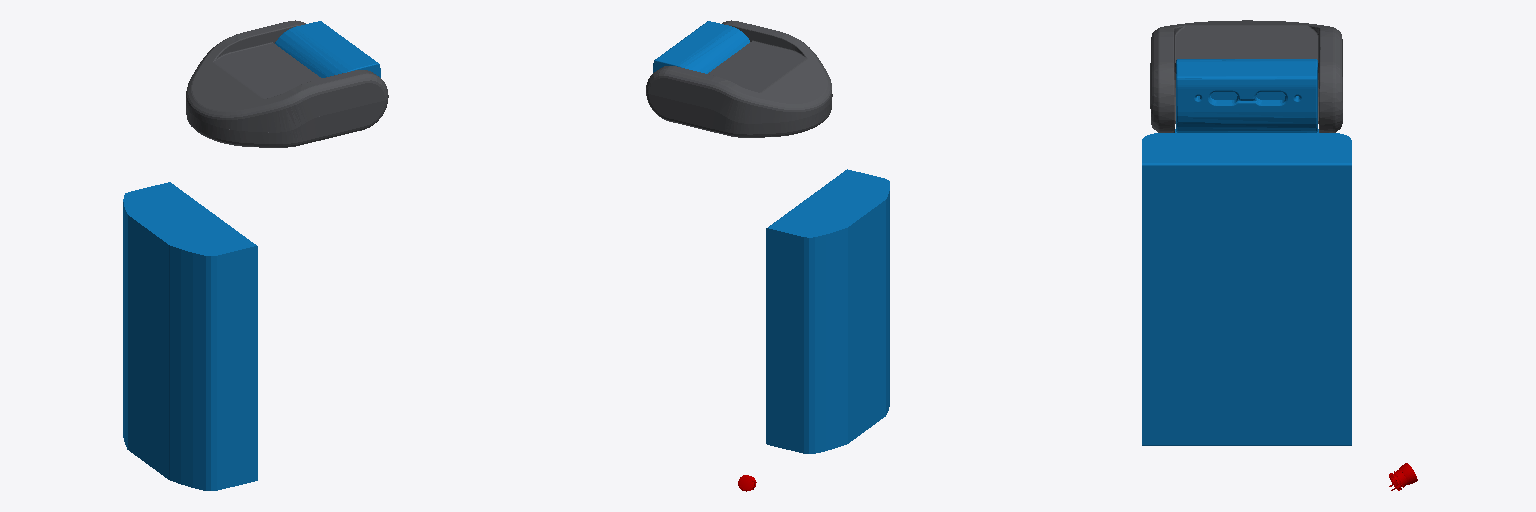
The robot description file, URDF, robot "fetch":
<?xml version="1.0" ?>
<robot name="fetch">
  <link name="base_link">
    <inertial>
      <origin rpy="0 0 0" xyz="-0.0036 0.0 0.0014" />
      <mass value="70.1294" />
      <inertia ixx="1.225" ixy="0.0099" ixz="0.0062" iyy="1.2853" iyz="-0.0034" izz="0.987" />
    </inertial>
    <visual>
      <origin rpy="0 0 0" xyz="0 0 0" />
      <geometry>
        <mesh filename="../meshes/base_link.dae" />
      </geometry>
      <material name="mat0">
        <color rgba="0.356 0.361 0.376 1" />
      </material>
    </visual>
    <collision group="2">
      <origin rpy="0 0 0" xyz="0 0 0.4" />
      <geometry>
        <!--<mesh filename="../meshes/base_link_collision.STL" />-->
        <cylinder length="0.8" radius="0.3"/>
      </geometry>
    </collision>
  </link>
  <link name="torso_lift_link">
    <inertial>
      <origin rpy="0 0 0" xyz="-0.0013 -0.0009 0.2935" />
      <mass value="10.7796" />
      <inertia ixx="0.3354" ixy="0.0" ixz="-0.0162" iyy="0.3354" iyz="-0.0006" izz="0.0954" />
    </inertial>
    <visual>
      <origin rpy="0 0 0" xyz="0 0 0" />
      <geometry>
        <mesh filename="../meshes/torso_lift_link.dae" />
      </geometry>
      <material name="math3">
        <color rgba="1 1 1 1" />
      </material>
    </visual>
  </link>
  <joint name="torso_lift_joint" type="prismatic">
    <origin rpy="-6.123E-17 0 0" xyz="-0.086875 0 0.37743" />
    <parent link="base_link" />
    <child link="torso_lift_link" />
    <axis xyz="0 0 1" />
    <limit effort="450.0" lower="0" upper="0.38615" velocity="0.1" />
  <dynamics damping="100.0" /></joint>
  <link name="head_pan_link">
    <inertial>
      <origin rpy="0 0 0" xyz="0.0321 0.0161 0.0390" />
      <mass value="2.2556" />
      <inertia ixx="0.0129" ixy="0.0002" ixz="0.0007" iyy="0.0095" iyz="-0.0" izz="0.0184" />
    </inertial>
    <visual>
      <origin rpy="0 0 0" xyz="0 0 0" />
      <geometry>
        <mesh filename="../meshes/head_pan_link.dae" />
      </geometry>
      <material name="math4">
        <color rgba="0.356 0.361 0.376 1" />
      </material>
    </visual>
  </link>
  <joint name="head_pan_joint" type="revolute">
    <origin rpy="0 0 0" xyz="0.053125 0 0.603001417713939" />
    <parent link="torso_lift_link" />
    <child link="head_pan_link" />
    <axis xyz="0 0 1" />
  <limit effort="0.32" lower="-1.57" upper="1.57" velocity="1.57" /></joint>
  <link name="head_tilt_link">
    <inertial>
      <origin rpy="0 0 0" xyz="0.0081 0.0025 0.0113" />
      <mass value="0.9087" />
      <inertia ixx="0.0061" ixy="-0.0" ixz="0.0002" iyy="0.0014" iyz="-0.0001" izz="0.0061" />
    </inertial>
    <visual>
      <origin rpy="0 0 0" xyz="0 0 0" />
      <geometry>
        <mesh filename="../meshes/head_tilt_link.dae" />
      </geometry>
      <material name="5">
        <color rgba="0.086 0.506 0.767 1" />
      </material>
    </visual>
  </link>
  <joint name="head_tilt_joint" type="revolute">
    <origin rpy="0 0 0" xyz="0.14253 0 0.057999" />
    <parent link="head_pan_link" />
    <child link="head_tilt_link" />
    <axis xyz="0 1 0" />
    <limit effort="0.68" lower="-0.76" upper="1.45" velocity="1.57" />
  </joint>
  <link name="shoulder_pan_link">
    <inertial>
      <origin rpy="0 0 0" xyz="0.0927 -0.0056 0.0564" />
      <mass value="2.5587" />
      <inertia ixx="0.0043" ixy="-0.0001" ixz="0.001" iyy="0.0087" iyz="-0.0001" izz="0.0087" />
    </inertial>
  </link>
  <joint name="shoulder_pan_joint" type="revolute">
    <origin rpy="0 0 0" xyz="0.119525 0 0.34858" />
    <parent link="torso_lift_link" />
    <child link="shoulder_pan_link" />
    <axis xyz="0 0 1" />
    <dynamics damping="1.0" />
    <limit effort="33.82" lower="-1.6056" upper="1.6056" velocity="1.256" />
  </joint>
  <link name="shoulder_lift_link">
    <inertial>
      <origin rpy="0 0 0" xyz="0.1432 0.0072 -0.0001" />
      <mass value="2.6615" />
      <inertia ixx="0.0028" ixy="-0.0021" ixz="-0.0" iyy="0.0111" iyz="-0.0" izz="0.0112" />
    </inertial>
    <collision group="32">
      <origin rpy="0 0 0" xyz="0 0 0" />
      <geometry>
        <mesh filename="../meshes/shoulder_lift_link_collision.STL" />
      </geometry>
    </collision>
  </link>
  <joint name="shoulder_lift_joint" type="revolute">
    <origin rpy="0 0 0" xyz="0.117 0 0.0599999999999999" />
    <parent link="shoulder_pan_link" />
    <child link="shoulder_lift_link" />
    <axis xyz="0 1 0" />
    <dynamics damping="1.0" />
    <limit effort="131.76" lower="-1.221" upper="1.518" velocity="1.454" />
  </joint>
  <link name="upperarm_roll_link">
    <inertial>
      <origin rpy="0 0 0" xyz="0.1165 0.0014 0.0000" />
      <mass value="2.3311" />
      <inertia ixx="0.0019" ixy="-0.0001" ixz="0.0" iyy="0.0045" iyz="0.0" izz="0.0047" />
    </inertial>
    <collision group="32">
      <origin rpy="0 0 0" xyz="0 0 0" />
      <geometry>
        <mesh filename="../meshes/upperarm_roll_link_collision.STL" />
      </geometry>
    </collision>
  </link>
  <joint name="upperarm_roll_joint" type="continuous">
    <origin rpy="0 0 0" xyz="0.219 0 0" />
    <parent link="shoulder_lift_link" />
    <child link="upperarm_roll_link" />
    <axis xyz="1 0 0" />
    <dynamics damping="5.0" />
    <limit effort="76.94" velocity="1.571" />
  </joint>
  <link name="elbow_flex_link">
    <inertial>
      <origin rpy="0 0 0" xyz="0.1279 0.0073 0.0000" />
      <mass value="2.1299" />
      <inertia ixx="0.0024" ixy="-0.0016" ixz="0.0" iyy="0.0082" iyz="-0.0" izz="0.0084" />
    </inertial>
    <collision group="32">
      <origin rpy="0 0 0" xyz="0 0 0" />
      <geometry>
        <mesh filename="../meshes/elbow_flex_link_collision.STL" />
      </geometry>
    </collision>
  </link>
  <joint name="elbow_flex_joint" type="revolute">
    <origin rpy="0 0 0" xyz="0.133 0 0" />
    <parent link="upperarm_roll_link" />
    <child link="elbow_flex_link" />
    <axis xyz="0 1 0" />
    <dynamics damping="1.0" />
    <limit effort="66.18" lower="-2.251" upper="2.251" velocity="1.521" />
  </joint>
  <link name="forearm_roll_link">
    <inertial>
      <origin rpy="0 0 0" xyz="0.1097 -0.0266 0.0000" />
      <mass value="1.6563" />
      <inertia ixx="0.0016" ixy="-0.0003" ixz="0.0" iyy="0.003" iyz="-0.0" izz="0.0035" />
    </inertial>
    <collision group="32">
      <origin rpy="0 0 0" xyz="0 0 0" />
      <geometry>
        <mesh filename="../meshes/forearm_roll_link_collision.STL" />
      </geometry>
    </collision>
  </link>
  <joint name="forearm_roll_joint" type="continuous">
    <origin rpy="0 0 0" xyz="0.197 0 0" />
    <parent link="elbow_flex_link" />
    <child link="forearm_roll_link" />
    <axis xyz="1 0 0" />
    <dynamics damping="5.0" />
    <limit effort="29.35" velocity="1.571" />
  </joint>
  <link name="wrist_flex_link">
    <inertial>
      <origin rpy="0 0 0" xyz="0.0882 0.0009 -0.0001" />
      <mass value="1.725" />
      <inertia ixx="0.0018" ixy="-0.0001" ixz="-0.0" iyy="0.0042" iyz="0.0" izz="0.0042" />
    </inertial>
    <collision group="32">
      <origin rpy="0 0 0" xyz="0 0 0" />
      <geometry>
        <mesh filename="../meshes/wrist_flex_link_collision.STL" />
      </geometry>
    </collision>
  </link>
  <joint name="wrist_flex_joint" type="revolute">
    <origin rpy="0 0 0" xyz="0.1245 0 0" />
    <parent link="forearm_roll_link" />
    <child link="wrist_flex_link" />
    <axis xyz="0 1 0" />
    <dynamics damping="1.0" />
    <limit effort="25.7" lower="-2.16" upper="2.16" velocity="2.268" />
  </joint>
  <link name="wrist_roll_link">
    <inertial>
      <origin rpy="0 0 0" xyz="0.0095 0.0004 -0.0002" />
      <mass value="0.1354" />
      <inertia ixx="0.0001" ixy="0.0" ixz="0.0" iyy="0.0001" iyz="0.0" izz="0.0001" />
    </inertial>
    <collision group="32">
      <origin rpy="0 0 0" xyz="0 0 0" />
      <geometry>
        <mesh filename="../meshes/wrist_roll_link_collision.STL" />
      </geometry>
    </collision>
  </link>
  <joint name="wrist_roll_joint" type="continuous">
    <origin rpy="0 0 0" xyz="0.1385 0 0" />
    <parent link="wrist_flex_link" />
    <child link="wrist_roll_link" />
    <axis xyz="1 0 0" />
    <limit effort="7.36" velocity="2.268" />
    <dynamics damping="5.0" />
  </joint>
  <link name="gripper_link">
    <inertial>
      <origin rpy="0 0 0" xyz="-0.0900 -0.0001 -0.0017" />
      <mass value="1.5175" />
      <inertia ixx="0.0013" ixy="-0.0" ixz="0.0" iyy="0.0019" iyz="-0.0" izz="0.0024" />
    </inertial>
    <collision group="32">
      <origin rpy="0 0 0" xyz="0 0 0" />
      <geometry>
        <mesh filename="../meshes/gripper_link.STL" />
      </geometry>
    </collision>
  </link>
  <joint name="gripper_axis" type="fixed">
    <origin rpy="0 0 0" xyz="0.16645 0 0" />
    <parent link="wrist_roll_link" />
    <child link="gripper_link" />
    <axis xyz="0 1 0" />
  </joint>
  <link name="r_gripper_finger_link">
    <inertial>
      <origin rpy="0 0 0" xyz="-0.01 0 0" />
      <mass value="0.0798" />
      <inertia ixx="0.002" ixy="0" ixz="0" iyy="0" iyz="0" izz="0" />
    </inertial>
    <collision group="32">
      <origin rpy="0 0 0" xyz="0 0.101425 0" />
      <geometry>
        <mesh filename="../meshes/r_gripper_finger_link_opt.stl" />
      </geometry>
    </collision>
  </link>
  <joint name="r_gripper_finger_joint" type="prismatic">
    <origin rpy="0 0 0" xyz="0 0.015425 0" />
    <parent link="gripper_link" />
    <child link="r_gripper_finger_link" />
    <axis xyz="0 1 0" />
  <limit effort="60" lower="0.0" upper="0.05" velocity="0.05" /><dynamics damping="100.0" /></joint>
  <link name="l_gripper_finger_link">
    <inertial>
      <origin rpy="0 0 0" xyz="-0.01 0 0" />
      <mass value="0.0798" />
      <inertia ixx="0.002" ixy="0" ixz="0" iyy="0" iyz="0" izz="0" />
    </inertial>
    <collision group="32">
      <origin rpy="0 0 0" xyz="0 -0.101425 0" />
      <geometry>
        <mesh filename="../meshes/l_gripper_finger_link_opt.stl" />
      </geometry>
    </collision>
  </link>
  <joint name="l_gripper_finger_joint" type="prismatic">
    <origin rpy="0 0 0" xyz="0 -0.015425 0" />
    <parent link="gripper_link" />
    <child link="l_gripper_finger_link" />
    <axis xyz="0 -1 0" />
  <limit effort="60" lower="0.0" upper="0.05" velocity="0.05" /><dynamics damping="100.0" /></joint>
  <link name="bellows_link">
    <inertial>
      <origin rpy="0 0 0" xyz="0.0191320000286228 -1.67219873481315E-16 -0.134861625443387" />
      <mass value="0.169374038216602" />
      <inertia ixx="0.00331159128762117" ixy="-8.9230964321455E-18" ixz="-5.38622201018293E-08" iyy="0.00174447292786627" iyz="-8.06964979976371E-17" izz="0.00169417568121457" />
    </inertial>
    <visual>
      <origin rpy="0 0 0" xyz="0 0 0" />
      <geometry>
        <mesh filename="../meshes/bellows_link.STL" />
      </geometry>
      <material name="15">
        <color rgba="0 0 0 1" />
      </material>
    </visual>
    <collision group="2">
      <origin rpy="0 0 0" xyz="0 0 0" />
      <geometry>
        <mesh filename="../meshes/bellows_link_collision.STL" />
      </geometry>
    </collision>
  </link>
  <joint name="bellows_joint" type="prismatic">
    <origin rpy="0 0 0" xyz="0 0 0" />
    <parent link="torso_lift_link" />
    <child link="bellows_link" />
    <axis xyz="0 0 -1" />
  <limit effort="5.0" lower="0" upper="0.4" velocity="0.1" /></joint>
  <link name="bellows_link2">
    <inertial>
      <origin rpy="0 0 0" xyz="0.0191320000286228 -1.67219873481315E-16 -0.134861625443387" />
      <mass value="0.169374038216602" />
      <inertia ixx="0.00331159128762117" ixy="-8.9230964321455E-18" ixz="-5.38622201018293E-08" iyy="0.00174447292786627" iyz="-8.06964979976371E-17" izz="0.00169417568121457" />
    </inertial>
    <visual>
      <origin rpy="0 0 0" xyz="0 0 0" />
      <geometry>
        <mesh filename="../meshes/bellows_link.STL" />
      </geometry>
      <material name="16">
        <color rgba="0 0 0 1" />
      </material>
    </visual>
    <collision group="2">
      <origin rpy="0 0 0" xyz="0 0 0" />
      <geometry>
        <mesh filename="../meshes/bellows_link_collision.STL" />
      </geometry>
    </collision>
  </link>
  <joint name="bellows_joint2" type="fixed">
    <origin rpy="0 0 0" xyz="0 0 0" />
    <parent link="torso_lift_link" />
    <child link="bellows_link2" />
  </joint>
  <link name="estop_link">
    <inertial>
      <origin rpy="0 0 0" xyz="0.002434512737072 -0.00330608315239905 0.00665139196650039" />
      <mass value="0.00196130439134723" />
      <inertia ixx="3.02810026604417E-07" ixy="-1.5862023118056E-08" ixz="3.16561396557437E-08" iyy="2.93322917127605E-07" iyz="-4.28833522751273E-08" izz="2.28513272627183E-07" />
    </inertial>
    <visual>
      <origin rpy="0 0 0" xyz="0 0 0" />
      <geometry>
        <mesh filename="../meshes/estop_link.dae" />
      </geometry>
      <material name="17">
        <color rgba="0.8 0 0 1" />
      </material>
    </visual>
  </link>
  <joint name="estop_joint" type="fixed">
    <origin rpy="1.5708 0 0" xyz="-0.12465 0.23892 0.31127" />
    <parent link="base_link" />
    <child link="estop_link" />
    <axis xyz="0 0 0" />
  </joint>
  <link name="laser_link">
    <inertial>
      <origin rpy="0 0 0" xyz="-0.0306228970175641 0.0007091682908278 0.0551974119471302" />
      <mass value="0.00833634573995571" />
      <inertia ixx="1.01866461240801E-06" ixy="-5.88447626567756E-08" ixz="7.83857244757914E-08" iyy="5.10039589974707E-07" iyz="-7.12664289617235E-09" izz="1.28270671527309E-06" />
    </inertial>
    <visual>
      <origin rpy="0 0 0" xyz="0 0 0" />
      <geometry>
        <mesh filename="../meshes/laser_link.STL" />
      </geometry>
      <material name="18">
        <color rgba="0.792156862745098 0.819607843137255 0.933333333333333 1" />
      </material>
    </visual>
  </link>
  <joint name="laser_joint" type="fixed">
    <origin rpy="3.14159265359 0 0" xyz="0.235 0 0.2878" />
    <parent link="base_link" />
    <child link="laser_link" />
    <axis xyz="0 0 0" />
  </joint>
  <link name="torso_fixed_link">
    <inertial>
      <origin rpy="0 0 0" xyz="-0.0722 0.0057 0.2656" />
      <mass value="130.2775" />
      <inertia ixx="0.3861" ixy="0.0015" ixz="-0.0102" iyy="0.3388" iyz="0.0117" izz="0.1018" />
    </inertial>
    <visual>
      <origin rpy="0 0 0" xyz="0 0 0" />
      <geometry>
        <mesh filename="../meshes/torso_fixed_link.dae" />
      </geometry>
      <material name="">
        <color rgba="0.086 0.506 0.767 1" />
      </material>
    </visual>
  </link>
  <joint name="torso_fixed_joint" type="fixed">
    <origin rpy="-6.12303176911189E-17 0 0" xyz="-0.086875 0 0.377425" />
    <parent link="base_link" />
    <child link="torso_fixed_link" />
    <axis xyz="0 1 0" />
  </joint>
  <link name="head_camera_link" />
  <joint name="head_camera_joint" type="fixed">
    <origin rpy="0 0 0" xyz="0.055 0 0.0225" />
    <parent link="head_tilt_link" />
    <child link="head_camera_link" />
  </joint>
  <link name="head_camera_rgb_frame" />
  <joint name="head_camera_rgb_joint" type="fixed">
    <origin rpy="0 0 0" xyz="0 0.02 0" />
    <parent link="head_camera_link" />
    <child link="head_camera_rgb_frame" />
  </joint>
  <link name="head_camera_rgb_optical_frame" />
  <joint name="head_camera_rgb_optical_joint" type="fixed">
    <origin rpy="-1.57079632679 0 -1.57079632679" xyz="0 0 0" />
    <parent link="head_camera_rgb_frame" />
    <child link="head_camera_rgb_optical_frame" />
  </joint>
  <link name="head_camera_depth_frame" />
  <joint name="head_camera_depth_joint" type="fixed">
    <origin rpy="0 0 0" xyz="0 0.045 0" />
    <parent link="head_camera_link" />
    <child link="head_camera_depth_frame" />
  </joint>
  <link name="head_camera_depth_optical_frame" />
  <joint name="head_camera_depth_optical_joint" type="fixed">
    <origin rpy="-1.57079632679 0 -1.57079632679" xyz="0 0 0" />
    <parent link="head_camera_depth_frame" />
    <child link="head_camera_depth_optical_frame" />
  </joint>
</robot>

--- Render facts (derived) ---
3 views of the same robot in one strip: view 1: azimuth 30°, elevation 25°; view 2: azimuth 150°, elevation 25°; view 3: azimuth 270°, elevation 25° (orthographic).
Model fetch with 24 links and 23 joints (6 revolute, 3 continuous, 4 prismatic, 10 fixed), rooted at base_link, posed every joint at zero.
Links seen in each view (by area): view 1: torso_fixed_link, head_pan_link, head_tilt_link; view 2: torso_fixed_link, head_pan_link, head_tilt_link; view 3: torso_fixed_link, head_pan_link, head_tilt_link.
Link boxes in pixels (bbox=[...]): torso_fixed_link: bbox=[123, 182, 257, 490]; head_pan_link: bbox=[186, 20, 388, 147]; head_tilt_link: bbox=[275, 21, 380, 77]; torso_fixed_link: bbox=[766, 169, 889, 453]; head_pan_link: bbox=[646, 20, 832, 137]; head_tilt_link: bbox=[653, 21, 749, 73]; torso_fixed_link: bbox=[1142, 129, 1351, 445]; head_pan_link: bbox=[1150, 20, 1342, 132]; head_tilt_link: bbox=[1176, 59, 1317, 132].
Size in the robot's own frame: 0.4189 by 0.4087 by 0.806 metres.
Meshes: 8 distinct files referenced, 4 mesh visuals loaded (4 Collada DAE); not drawn: 5 (reference not matched to a file when rendering).